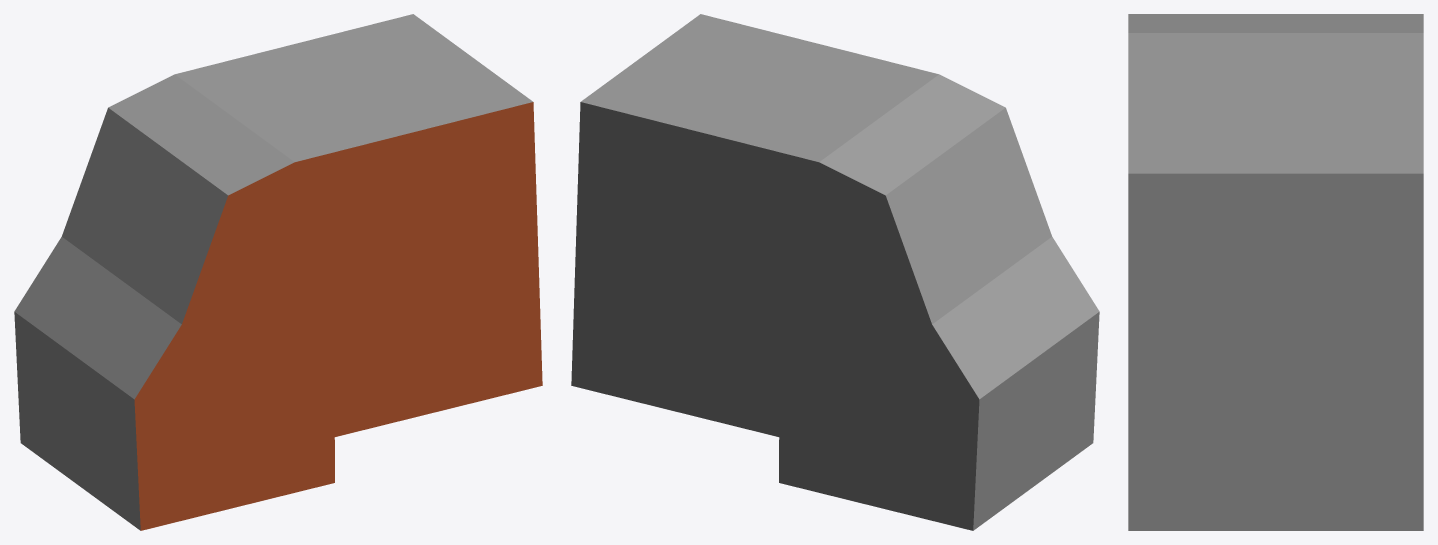
The model's file is construction_4673_assumed_A_Casa_h6m.obj.
3 views of the same model, side by side, from view 1: azimuth 30°, elevation 25°; view 2: azimuth 150°, elevation 25°; view 3: azimuth 270°, elevation 25° (orthographic). The views are drawn at different scales.
Parts seen in each view (by area): view 1: construction_4673_assumed_A_Casa; view 2: construction_4673_assumed_A_Casa; view 3: construction_4673_assumed_A_Casa.
Boxes of the visible parts, x1,y1,x2,y2 form: construction_4673_assumed_A_Casa: [14, 14, 542, 530]; construction_4673_assumed_A_Casa: [571, 14, 1099, 530]; construction_4673_assumed_A_Casa: [1128, 14, 1423, 530].
Size of the model in its own units: 11.77 by 9.18 by 6.
